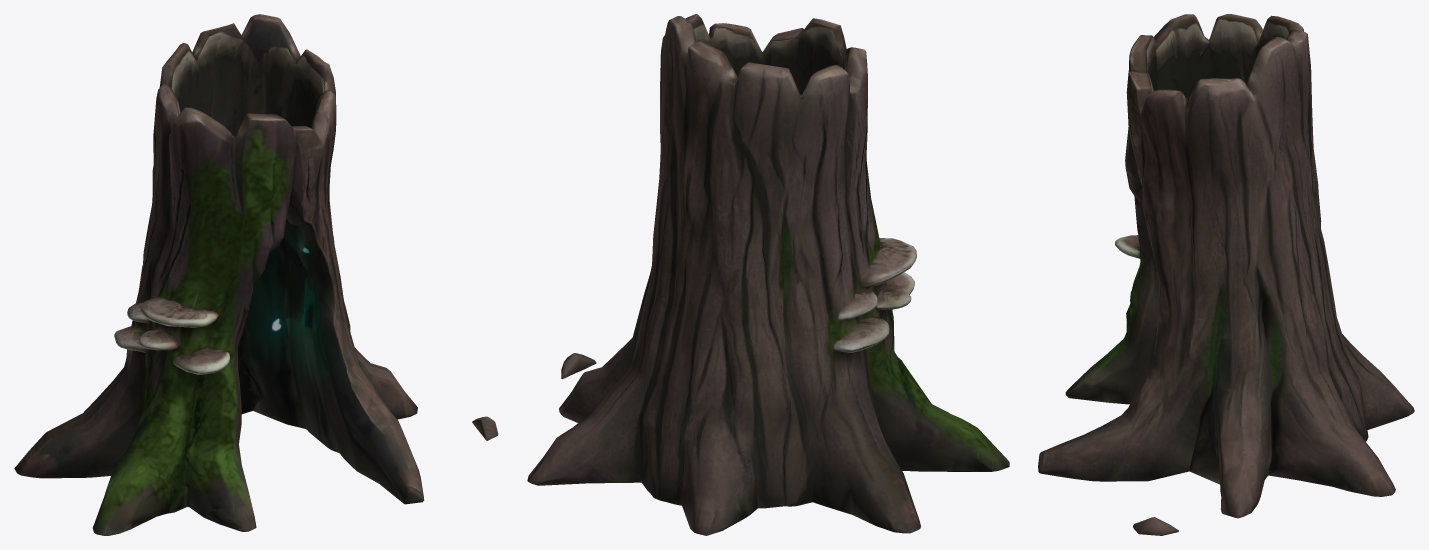
Rendered from mesh_old_growth_stump_a.glb.
The picture shows the model from 3 angles, left to right: view 1: azimuth 30°, elevation 25°; view 2: azimuth 150°, elevation 25°; view 3: azimuth 270°, elevation 25°; orthographic projection. The views are drawn at different scales.
Visible parts, largest first — view 1: mesh_old_growth_stump_a__Mesh_0; view 2: mesh_old_growth_stump_a__Mesh_0; view 3: mesh_old_growth_stump_a__Mesh_0.
Part boxes in pixels (x1,y1,x2,y2): mesh_old_growth_stump_a__Mesh_0: (14, 14, 498, 535); mesh_old_growth_stump_a__Mesh_0: (527, 14, 1009, 535); mesh_old_growth_stump_a__Mesh_0: (1038, 14, 1414, 535).
Size of the model in its own units: 22 by 21.13 by 17.5.
Materials: 1 (1 with a texture image).
